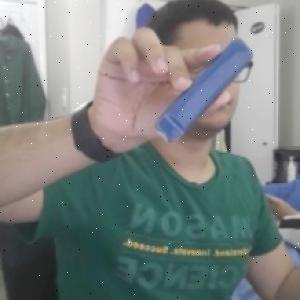Diamond-E-Ciggirate: (152, 34, 255, 146)
